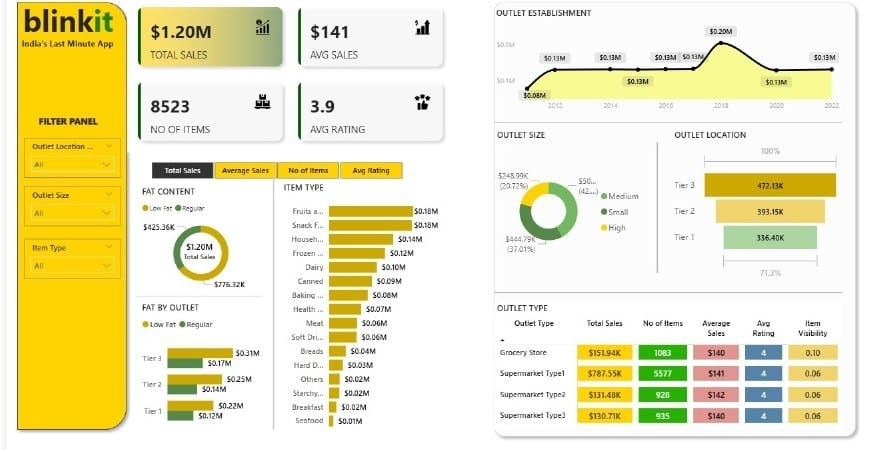

What the dashboard file says about the page in this screenshot:
{"tool":"powerbi","page":{"name":"Page 1","canvas":[1400,800],"ordinal":0},"visuals":[{"type":"shape","box":[8,9.4,194.4,706.4],"z":0},{"type":"textbox","box":[8.2,70.9,180.9,31.8],"z":1000},{"type":"textbox","box":[14.5,10,169.1,76.4],"z":2000},{"type":"textbox","box":[258.7,618,218.5,75.1],"z":3000},{"type":"cardVisual","fields":{"Data":["BlinkIT Grocery Data.Total Sales","BlinkIT Grocery Data.Average Sales","BlinkIT Grocery Data.No of Items","BlinkIT Grocery Data.Avg Rating"]},"box":[195,10,525,251.2],"z":4000},{"type":"shape","box":[774.8,9.4,600.5,717.2],"z":5000},{"type":"donutChart","title":"FAT CONTENT","fields":{"Y":["BlinkIT Grocery Data.Total Sales"],"Category":["BlinkIT Grocery Data.Item Fat Content"]},"box":[213.1,313.7,199.7,172.9],"z":6000},{"type":"slicer","title":"FAT CONTENT","fields":{"Values":["Metrics.Metrics"]},"box":[207.5,270,452.5,40],"z":7000},{"type":"cardVisual","fields":{"Data":["BlinkIT Grocery Data.Total Sales"]},"box":[258.7,386.1,104.6,53.6],"z":8000},{"type":"clusteredBarChart","title":"FAT BY OUTLET","fields":{"Y":["BlinkIT Grocery Data.Total Sales"],"Category":["BlinkIT Grocery Data.Outlet Location Type"],"Series":["BlinkIT Grocery Data.Item Fat Content"]},"box":[213.1,500,199.7,215.8],"z":9000},{"type":"shape","box":[207.8,482.6,205.1,18.8],"z":10000},{"type":"shape","box":[412.9,298.9,33.5,407.5],"z":11000},{"type":"barChart","title":"ITEM TYPE","fields":{"Y":["BlinkIT Grocery Data.Total Sales"],"Category":["BlinkIT Grocery Data.Item Type"]},"box":[441,307,258.7,408.8],"z":12000},{"type":"lineChart","title":"OUTLET ESTABLISHMENT","fields":{"Category":["BlinkIT Grocery Data.Outlet Establishment Year"],"Y":["BlinkIT Grocery Data.Total Sales"]},"box":[782.8,26.8,561.7,175.6],"z":13000},{"type":"shape","box":[784.2,202.4,560.3,20.1],"z":14000},{"type":"donutChart","title":"OUTLET SIZE","fields":{"Category":["BlinkIT Grocery Data.Outlet Size"],"Y":["BlinkIT Grocery Data.Total Sales"]},"box":[784.2,222.5,248,248],"z":15000},{"type":"shape","box":[1032.2,244,29.5,210.5],"z":16000},{"type":"funnel","title":"OUTLET LOCATION","fields":{"Y":["Sum(BlinkIT Grocery Data.Sales)"],"Category":["BlinkIT Grocery Data.Outlet Location Type"]},"box":[1069.7,222.5,274.8,248],"z":17000},{"type":"shape","box":[784.2,470.5,560.3,30.8],"z":18000},{"type":"pivotTable","title":"OUTLET TYPE","fields":{"Rows":["BlinkIT Grocery Data.Outlet Type"],"Values":["BlinkIT Grocery Data.Total Sales","BlinkIT Grocery Data.No of Items","BlinkIT Grocery Data.Average Sales","BlinkIT Grocery Data.Avg Rating","Avg(BlinkIT Grocery Data.Item Visibility)"]},"box":[784.2,501.3,560.3,203.8],"z":19000},{"type":"slicer","fields":{"Values":["BlinkIT Grocery Data.Outlet Location Type"]},"box":[28.2,237.3,155.5,64.3],"z":20000},{"type":"slicer","fields":{"Values":["BlinkIT Grocery Data.Outlet Size"]},"box":[28.2,315,155.5,64.3],"z":21000},{"type":"slicer","fields":{"Values":["BlinkIT Grocery Data.Item Type"]},"box":[28.2,399.5,155.5,64.3],"z":22000},{"type":"textbox","box":[42.9,194.4,112.6,37.5],"z":23000}]}

Visuals, with their boxes on the page's 1400x800 design canvas (x1, y1, x2, y2). These are canvas units, not pixel positions in the 877x450 screenshot, which may show the page scaled, cropped or inside an application window:
shape: Rect(8, 9, 202, 716)
textbox: Rect(8, 71, 189, 103)
textbox: Rect(14, 10, 184, 86)
textbox: Rect(259, 618, 477, 693)
cardVisual - BlinkIT Grocery Data.Total Sales x BlinkIT Grocery Data.Average Sales: Rect(195, 10, 720, 261)
shape: Rect(775, 9, 1375, 727)
"FAT CONTENT" donutChart: Rect(213, 314, 413, 487)
"FAT CONTENT" slicer: Rect(208, 270, 660, 310)
cardVisual - BlinkIT Grocery Data.Total Sales: Rect(259, 386, 363, 440)
"FAT BY OUTLET" clusteredBarChart: Rect(213, 500, 413, 716)
shape: Rect(208, 483, 413, 501)
shape: Rect(413, 299, 446, 706)
"ITEM TYPE" barChart: Rect(441, 307, 700, 716)
"OUTLET ESTABLISHMENT" lineChart: Rect(783, 27, 1344, 202)
shape: Rect(784, 202, 1344, 222)
"OUTLET SIZE" donutChart: Rect(784, 222, 1032, 470)
shape: Rect(1032, 244, 1062, 454)
"OUTLET LOCATION" funnel: Rect(1070, 222, 1344, 470)
shape: Rect(784, 470, 1344, 501)
"OUTLET TYPE" pivotTable: Rect(784, 501, 1344, 705)
slicer - BlinkIT Grocery Data.Outlet Location Type: Rect(28, 237, 184, 302)
slicer - BlinkIT Grocery Data.Outlet Size: Rect(28, 315, 184, 379)
slicer - BlinkIT Grocery Data.Item Type: Rect(28, 400, 184, 464)
textbox: Rect(43, 194, 156, 232)
